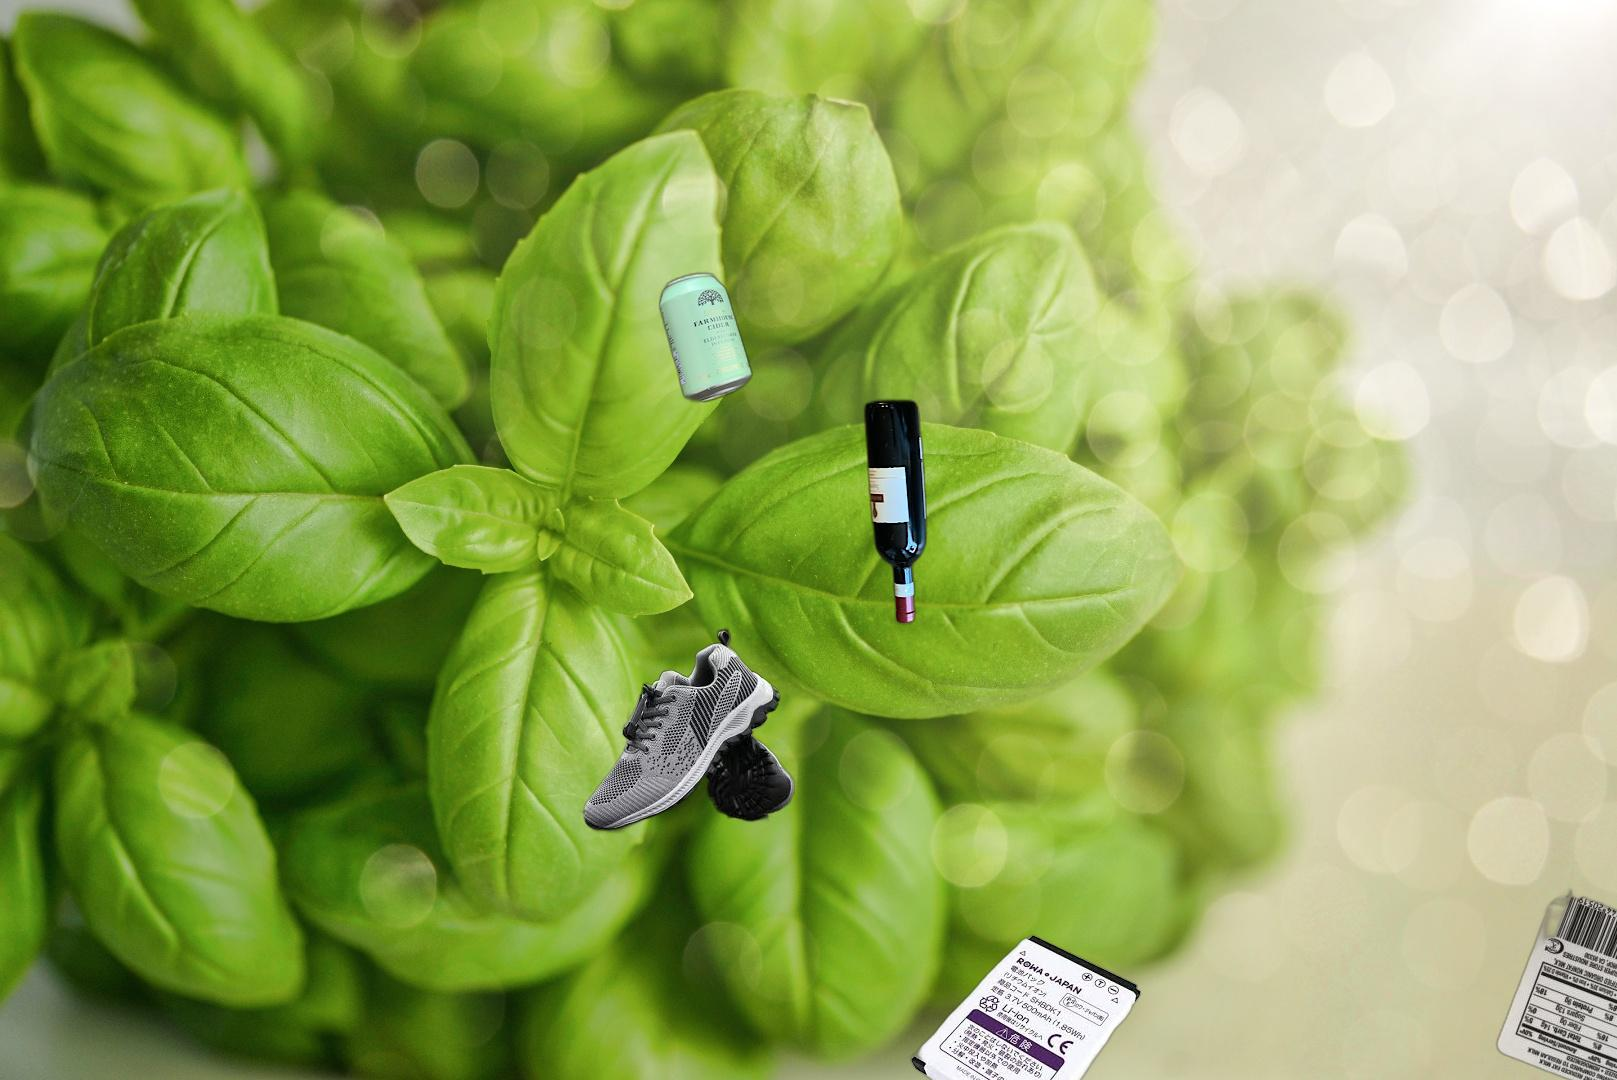battery: (907, 932, 1143, 1080)
glass: (860, 394, 931, 630)
metal-cans: (655, 268, 755, 407)
plastic-bottles: (1492, 885, 1617, 1080)
shoes: (580, 626, 796, 837)
